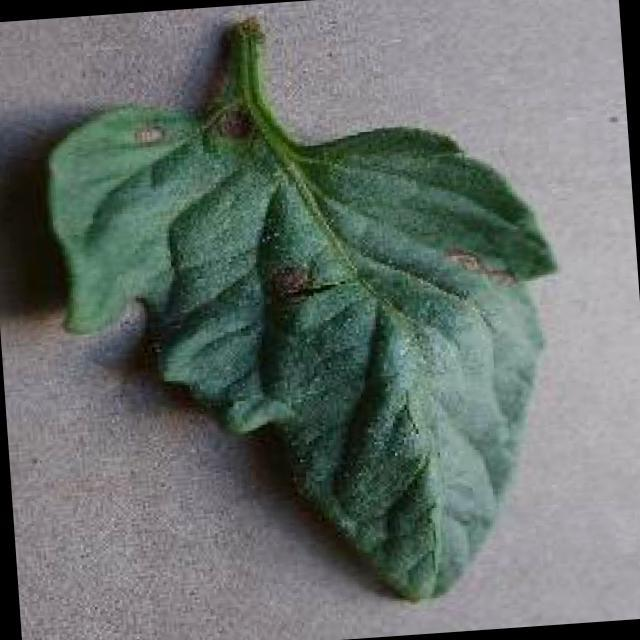Tomato Early blight leaf: (34, 0, 577, 622)
